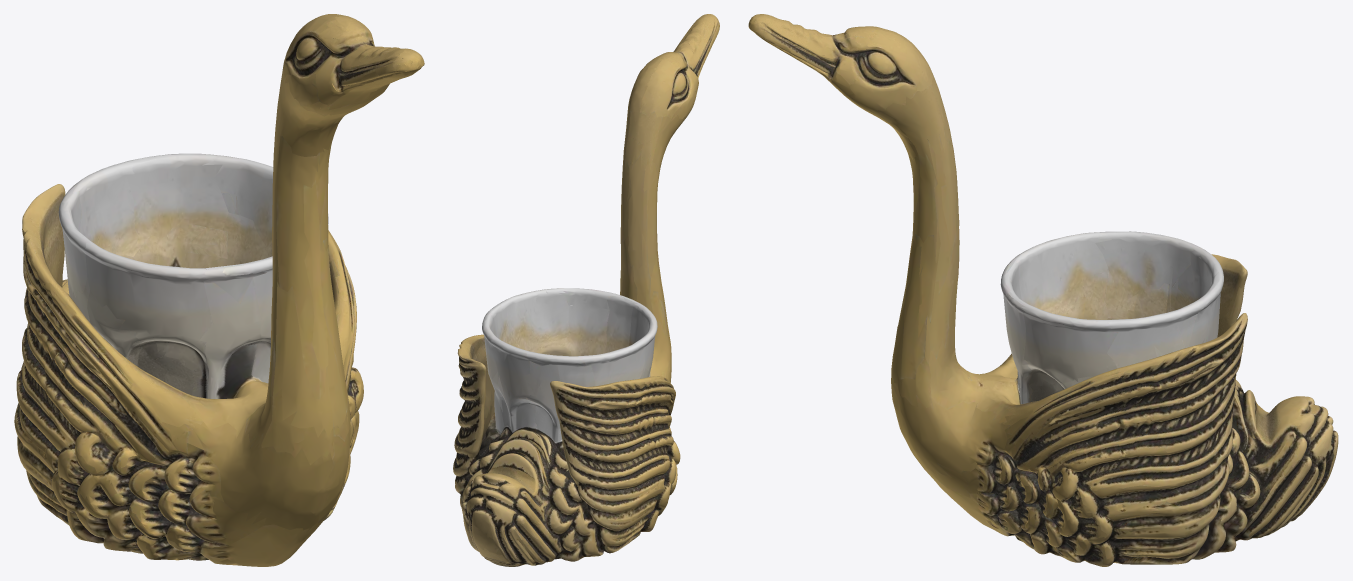
The model's file is behoma-metal-pair-of-swans-with-gift-box-gold.glb.
The picture shows the model from 3 angles, left to right: view 1: azimuth 30°, elevation 25°; view 2: azimuth 150°, elevation 25°; view 3: azimuth 270°, elevation 25°; orthographic projection. The views are drawn at different scales.
Parts seen in each view (by area): view 1: Mesh_0; view 2: Mesh_0; view 3: Mesh_0.
Part boxes in pixels (x1=…): Mesh_0: x1=14, y1=14, x2=424, y2=566; Mesh_0: x1=453, y1=14, x2=719, y2=566; Mesh_0: x1=748, y1=14, x2=1338, y2=566.
Size of the model in its own units: 0.9046 by 1.79 by 1.9.
1 material, 1 textured.
